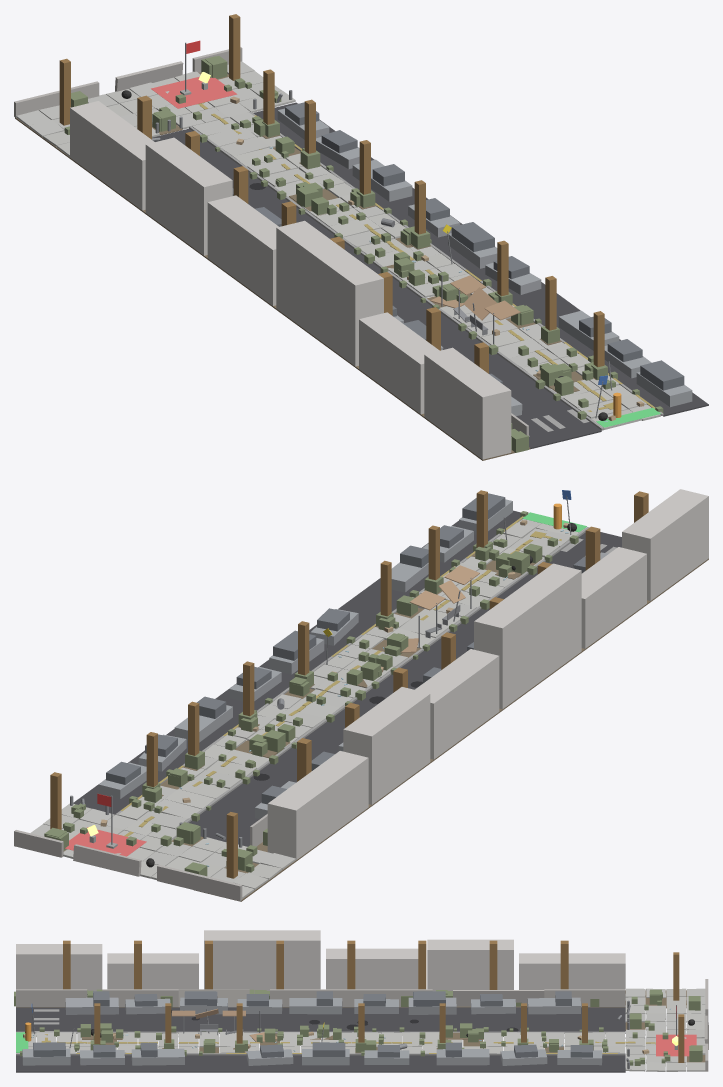
The model's file is CamellonDeteriorado.fbx.
3 views of the same model, one above another, from view 1: azimuth 30°, elevation 25°; view 2: azimuth 150°, elevation 25°; view 3: azimuth 270°, elevation 25° (orthographic). The views are drawn at different scales.
Visible parts, largest first — view 1: DET_Edificio_2, DET_Calle, DET_Edificio_0, DET_Edificio_4, DET_Edificio_5, DET_Edificio_3, DET_Carril_Estacionamiento, DET_Edificio_1, DET_Guarnicion_Izq, DET_Zona_Meta, DET_Muro_Fondo_Plaza_0, DET_Muro_Fondo_Plaza_1 (+10 smaller); view 2: DET_Edificio_2, DET_Calle, DET_Edificio_5, DET_Edificio_4, DET_Edificio_0, DET_Edificio_3, DET_Carril_Estacionamiento, DET_Edificio_1, DET_Muro_Fondo_Plaza_0, DET_Guarnicion_Izq, DET_Muro_Fondo_Plaza_1, DET_Zona_Meta (+14 smaller); view 3: DET_Calle, DET_Carril_Estacionamiento, DET_Edificio_2, DET_Edificio_4, DET_Edificio_5, DET_Edificio_0, DET_Edificio_3, DET_Edificio_1, DET_Barda_0, DET_Barda_6, DET_Barda_3, DET_Barda_5 (+61 smaller).
Boxes of the visible parts, x1,y1,x2,y2 form: DET_Edificio_2: [276, 220, 383, 366]; DET_Calle: [152, 128, 601, 449]; DET_Edificio_0: [424, 347, 511, 459]; DET_Edificio_4: [145, 137, 232, 255]; DET_Edificio_5: [70, 101, 154, 210]; DET_Edificio_3: [207, 195, 278, 305]; DET_Carril_Estacionamiento: [253, 102, 708, 416]; DET_Edificio_1: [359, 312, 439, 414]; DET_Guarnicion_Izq: [189, 126, 604, 430]; DET_Zona_Meta: [151, 76, 237, 108]; DET_Muro_Fondo_Plaza_0: [14, 81, 99, 117]; DET_Muro_Fondo_Plaza_1: [115, 61, 183, 91]; DET_Edificio_2: [474, 563, 581, 709]; DET_Calle: [189, 532, 621, 846]; DET_Edificio_5: [267, 751, 368, 860]; DET_Edificio_4: [343, 687, 430, 804]; DET_Edificio_0: [622, 489, 708, 600]; DET_Edificio_3: [415, 649, 499, 759]; DET_Carril_Estacionamiento: [73, 510, 520, 814]; DET_Edificio_1: [581, 547, 646, 648]; DET_Muro_Fondo_Plaza_0: [157, 864, 242, 901]; DET_Guarnicion_Izq: [175, 527, 589, 829]; DET_Muro_Fondo_Plaza_1: [73, 844, 141, 876]; DET_Zona_Meta: [65, 827, 146, 856]; DET_Calle: [16, 1007, 625, 1031]; DET_Carril_Estacionamiento: [16, 1055, 625, 1072]; DET_Edificio_2: [204, 930, 320, 993]; DET_Edificio_4: [427, 939, 513, 991]; DET_Edificio_5: [519, 953, 625, 989]; DET_Edificio_0: [16, 944, 102, 991]; DET_Edificio_3: [326, 948, 418, 989]; DET_Edificio_1: [107, 953, 198, 989]; DET_Barda_0: [16, 989, 87, 1006]; DET_Barda_6: [544, 989, 625, 1006]; DET_Barda_3: [270, 989, 361, 1006]; DET_Barda_5: [453, 990, 544, 1006].
Bounding box in the file's own units: 1900 × 670 × 6842.
